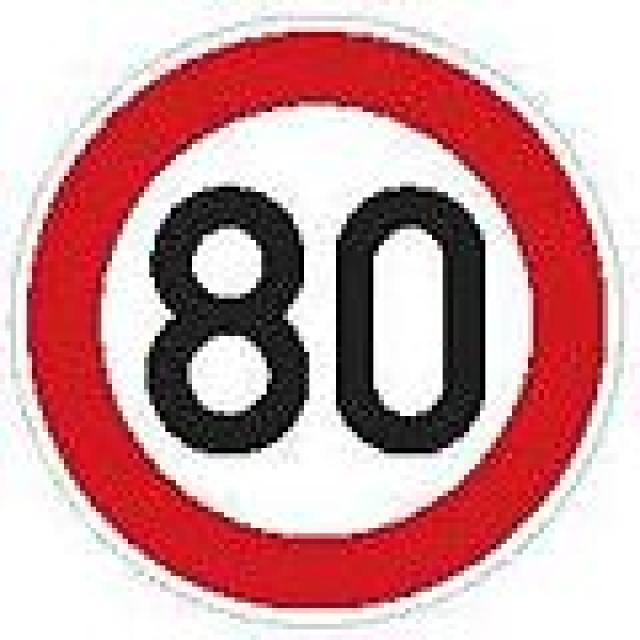Speed Limit -80-: (141, 177, 499, 461)
